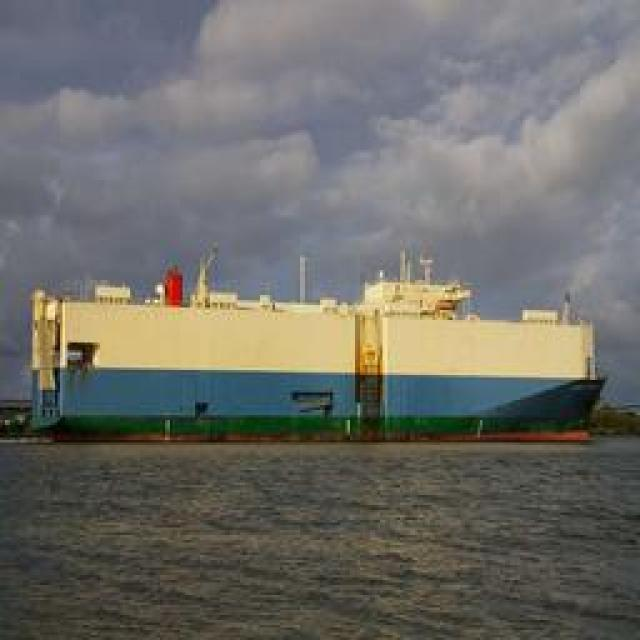ship2: (27, 240, 604, 443)
